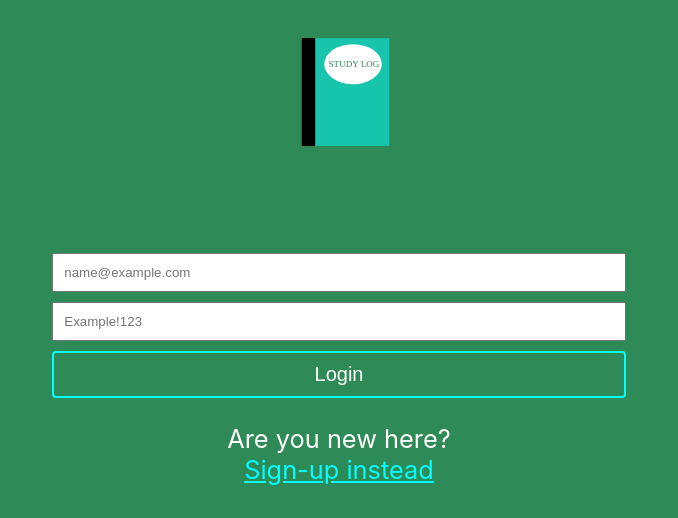
Test case: Login Page › blocks failed login when the wrong password is entered
The image size is (678, 518).
Type "s.addict2@test.com" into the field with test id "email-input" at (339, 273), box [52,253,625,292]
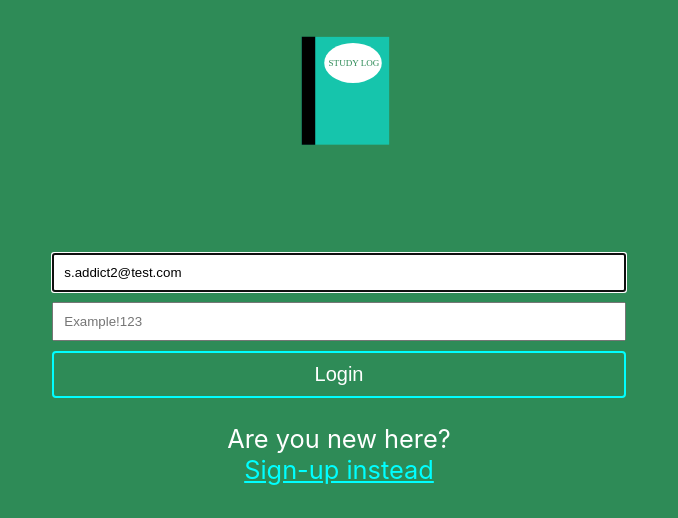
Type "wrangB@ng" into the password field with test id "password-input" at (339, 322), box [52,302,625,341]
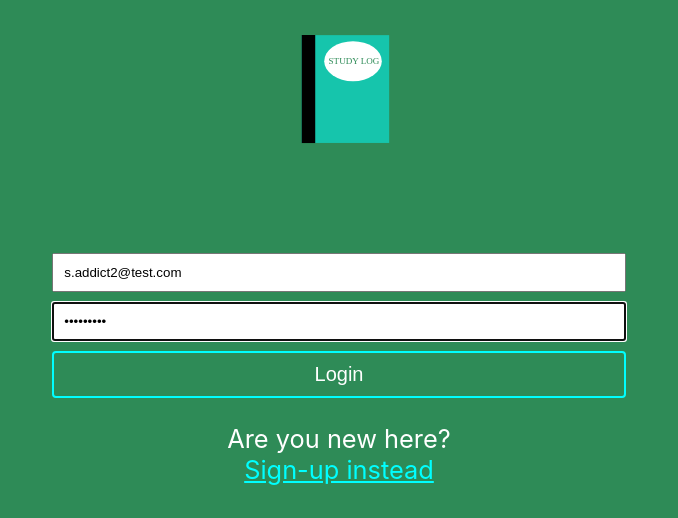
Click the button "Login" at (339, 375), box [52,351,625,398]
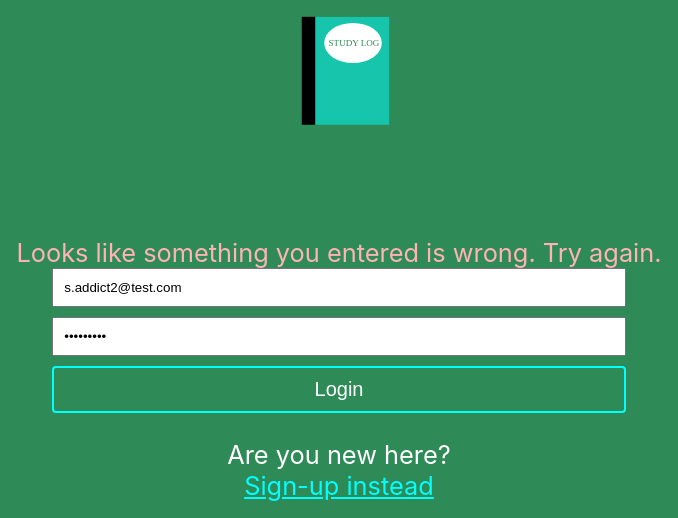
Expected: the text "Looks like something you entered is wrong. Try again." is shown, [16,237,662,268]
